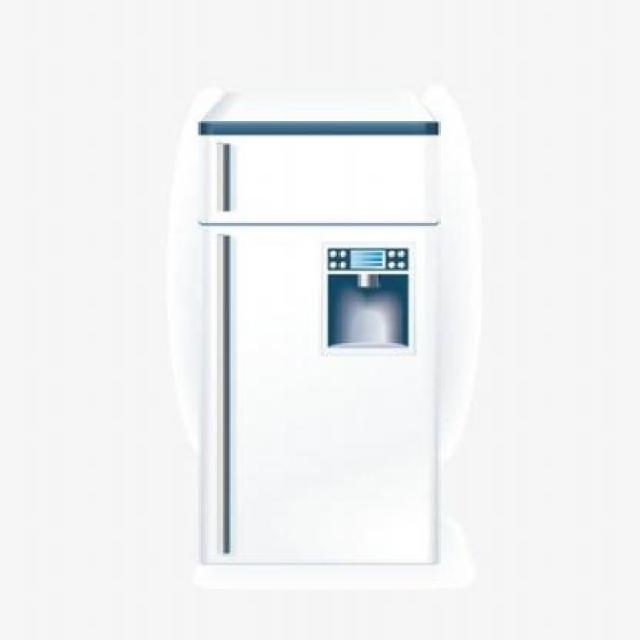cooler: (192, 86, 448, 571)
